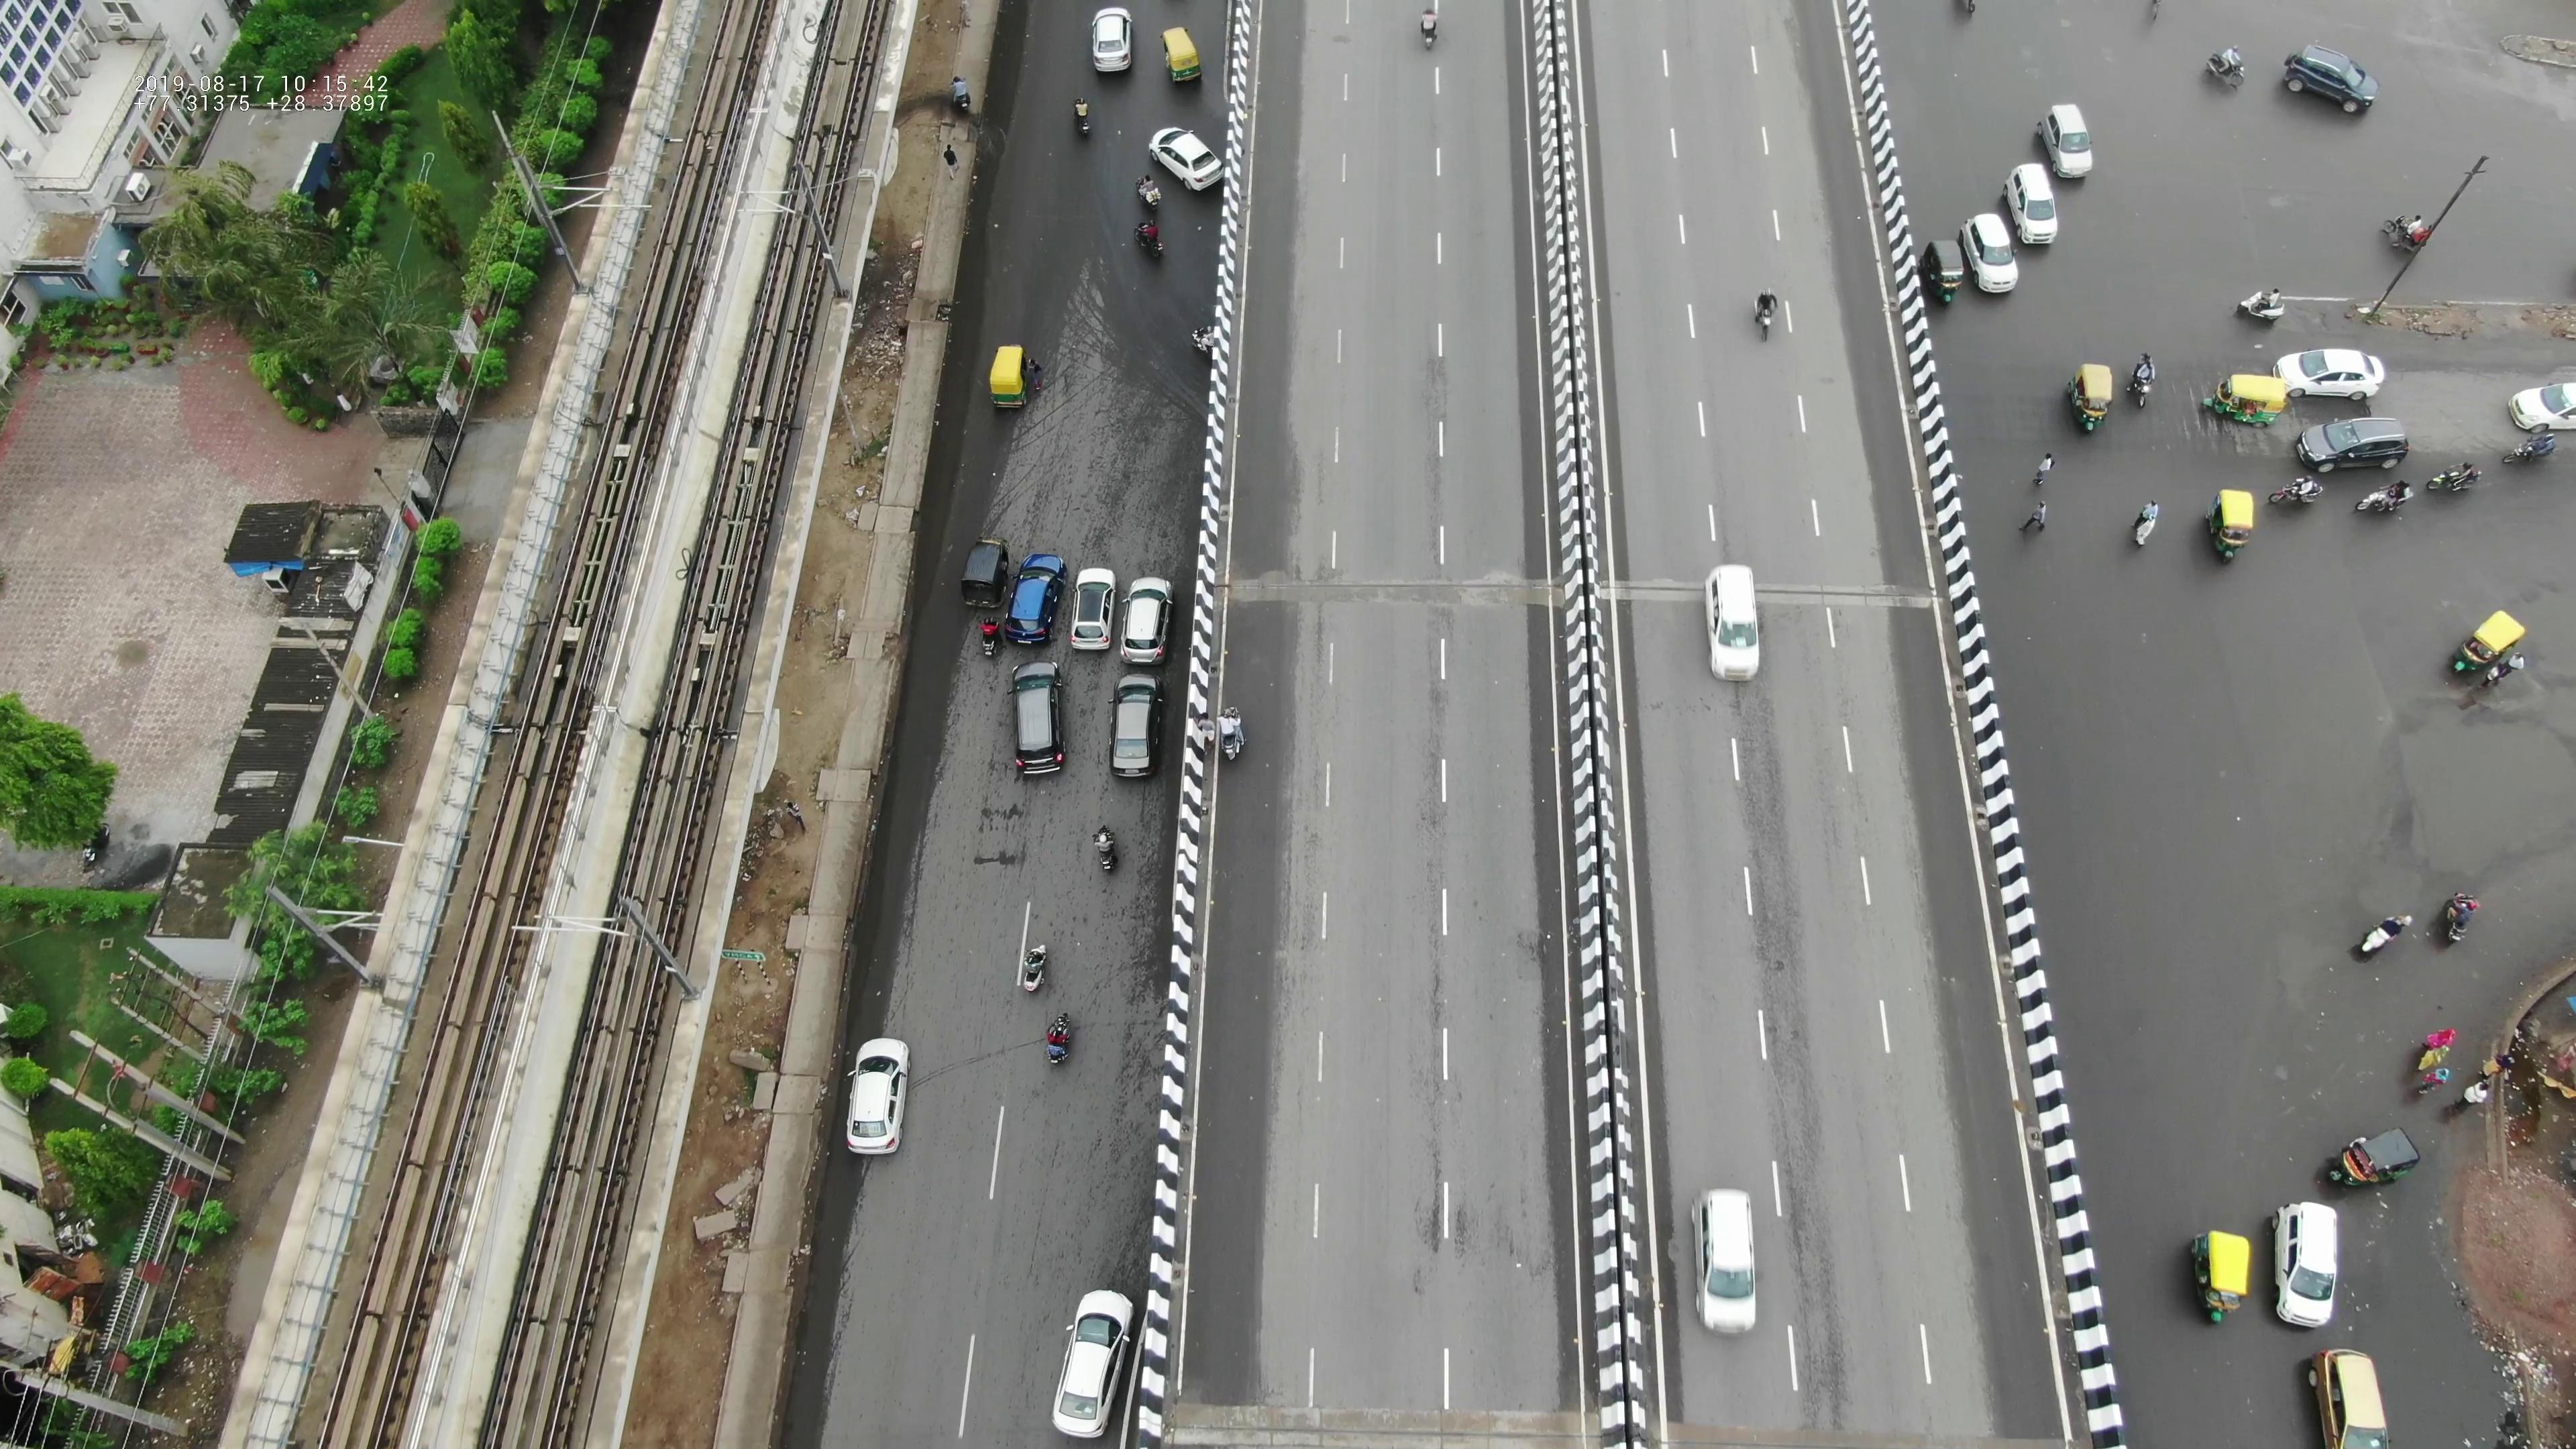Ravelling: (1391, 874, 1495, 1240), (1727, 694, 1826, 1074), (1762, 1118, 1868, 1415), (1389, 617, 1470, 835), (1387, 331, 1458, 538)
